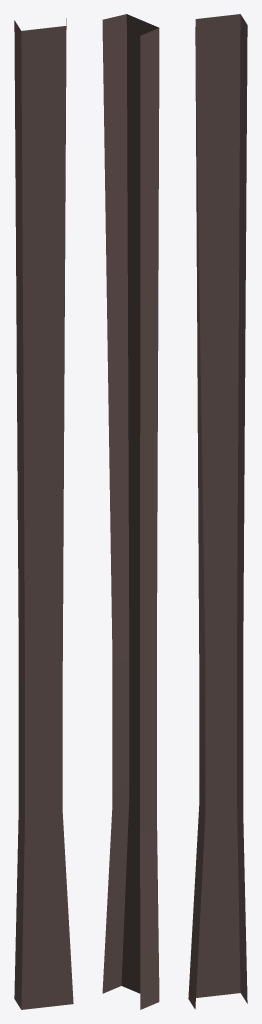
The model's file is Module_Building_Wall_Joint.fbx.
3 renders of one model, left to right at view 1: azimuth 90°, elevation 25°; view 2: azimuth 210°, elevation 25°; view 3: azimuth 270°, elevation 25°, orthographic.
Visible parts, largest first — view 1: Module_Building_Wall_Joint; view 2: Module_Building_Wall_Joint; view 3: Module_Building_Wall_Joint.
Boxes of the visible parts, x1,y1,x2,y2 form: Module_Building_Wall_Joint: (14, 18, 73, 1009); Module_Building_Wall_Joint: (102, 14, 159, 1009); Module_Building_Wall_Joint: (188, 14, 247, 1009).
Size of the model in its own units: 7.42 by 200 by 10.95.
